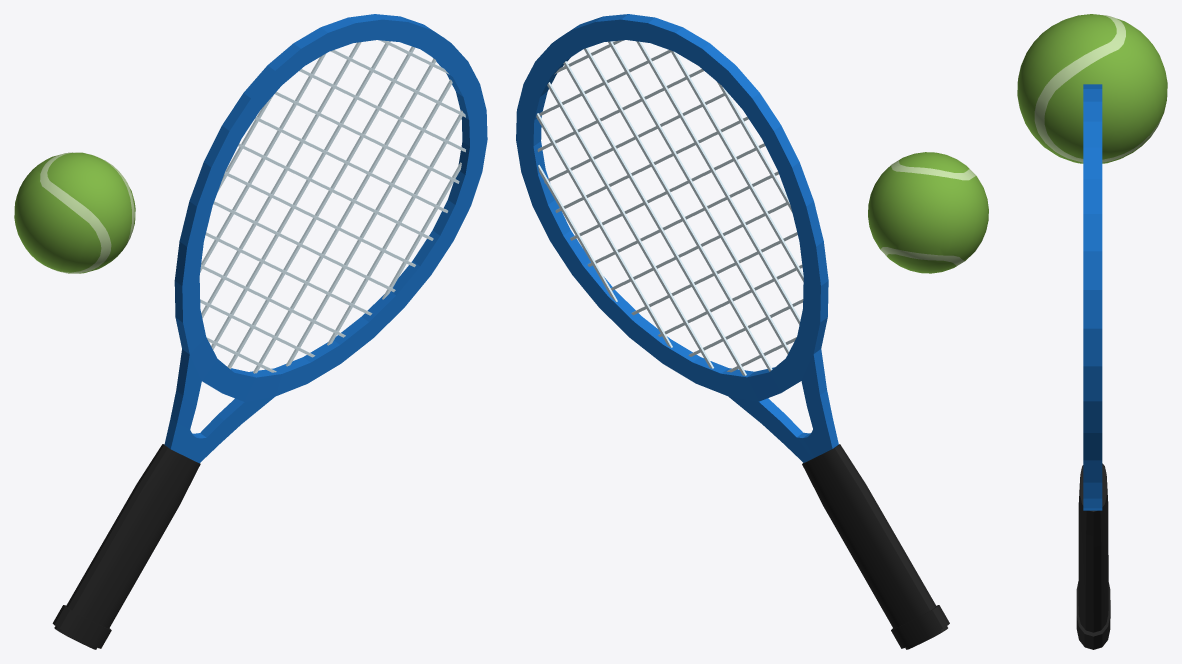
File: tennis.gltf
The picture shows the model from 3 angles, left to right: view 1: azimuth 30°, elevation 25°; view 2: azimuth 150°, elevation 25°; view 3: azimuth 270°, elevation 25°; orthographic projection. The views are drawn at different scales.
Parts seen in each view (by area): view 1: Cube.815; view 2: Cube.815; view 3: Cube.815.
Part boxes in pixels (x1,y1,x2,y2): Cube.815: (14, 14, 487, 649); Cube.815: (516, 14, 988, 649); Cube.815: (1017, 14, 1167, 649).
Bounding box in the file's own units: 2.01 × 2.36 × 0.4589.
Materials: 1 (1 with a texture image).
